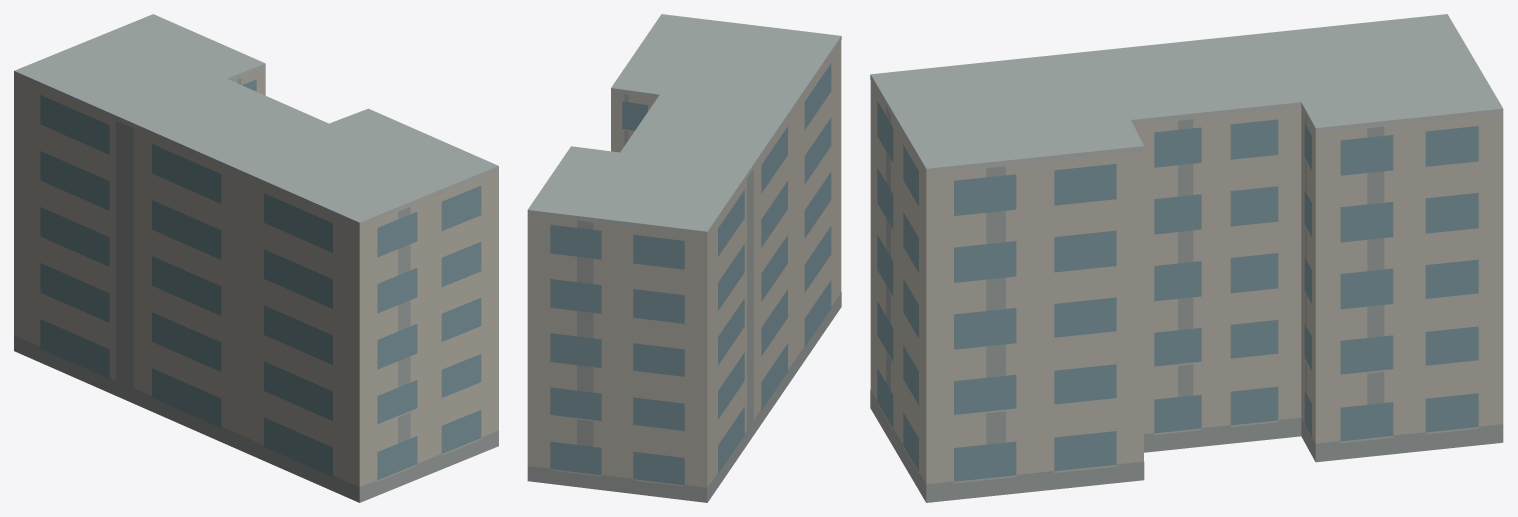
File: survey-upis-32712532.glb
The picture shows the model from 3 angles, left to right: view 1: azimuth 30°, elevation 25°; view 2: azimuth 150°, elevation 25°; view 3: azimuth 270°, elevation 25°; orthographic projection. The views are drawn at different scales.
Visible parts, largest first — view 1: survey-upis-32712532.tmp; view 2: survey-upis-32712532.tmp; view 3: survey-upis-32712532.tmp.
Part boxes in pixels (x1,y1,x2,y2): survey-upis-32712532.tmp: [14, 14, 498, 502]; survey-upis-32712532.tmp: [527, 14, 841, 502]; survey-upis-32712532.tmp: [870, 14, 1503, 502].
Size of the model in its own units: 14.42 by 14.5 by 24.9.
